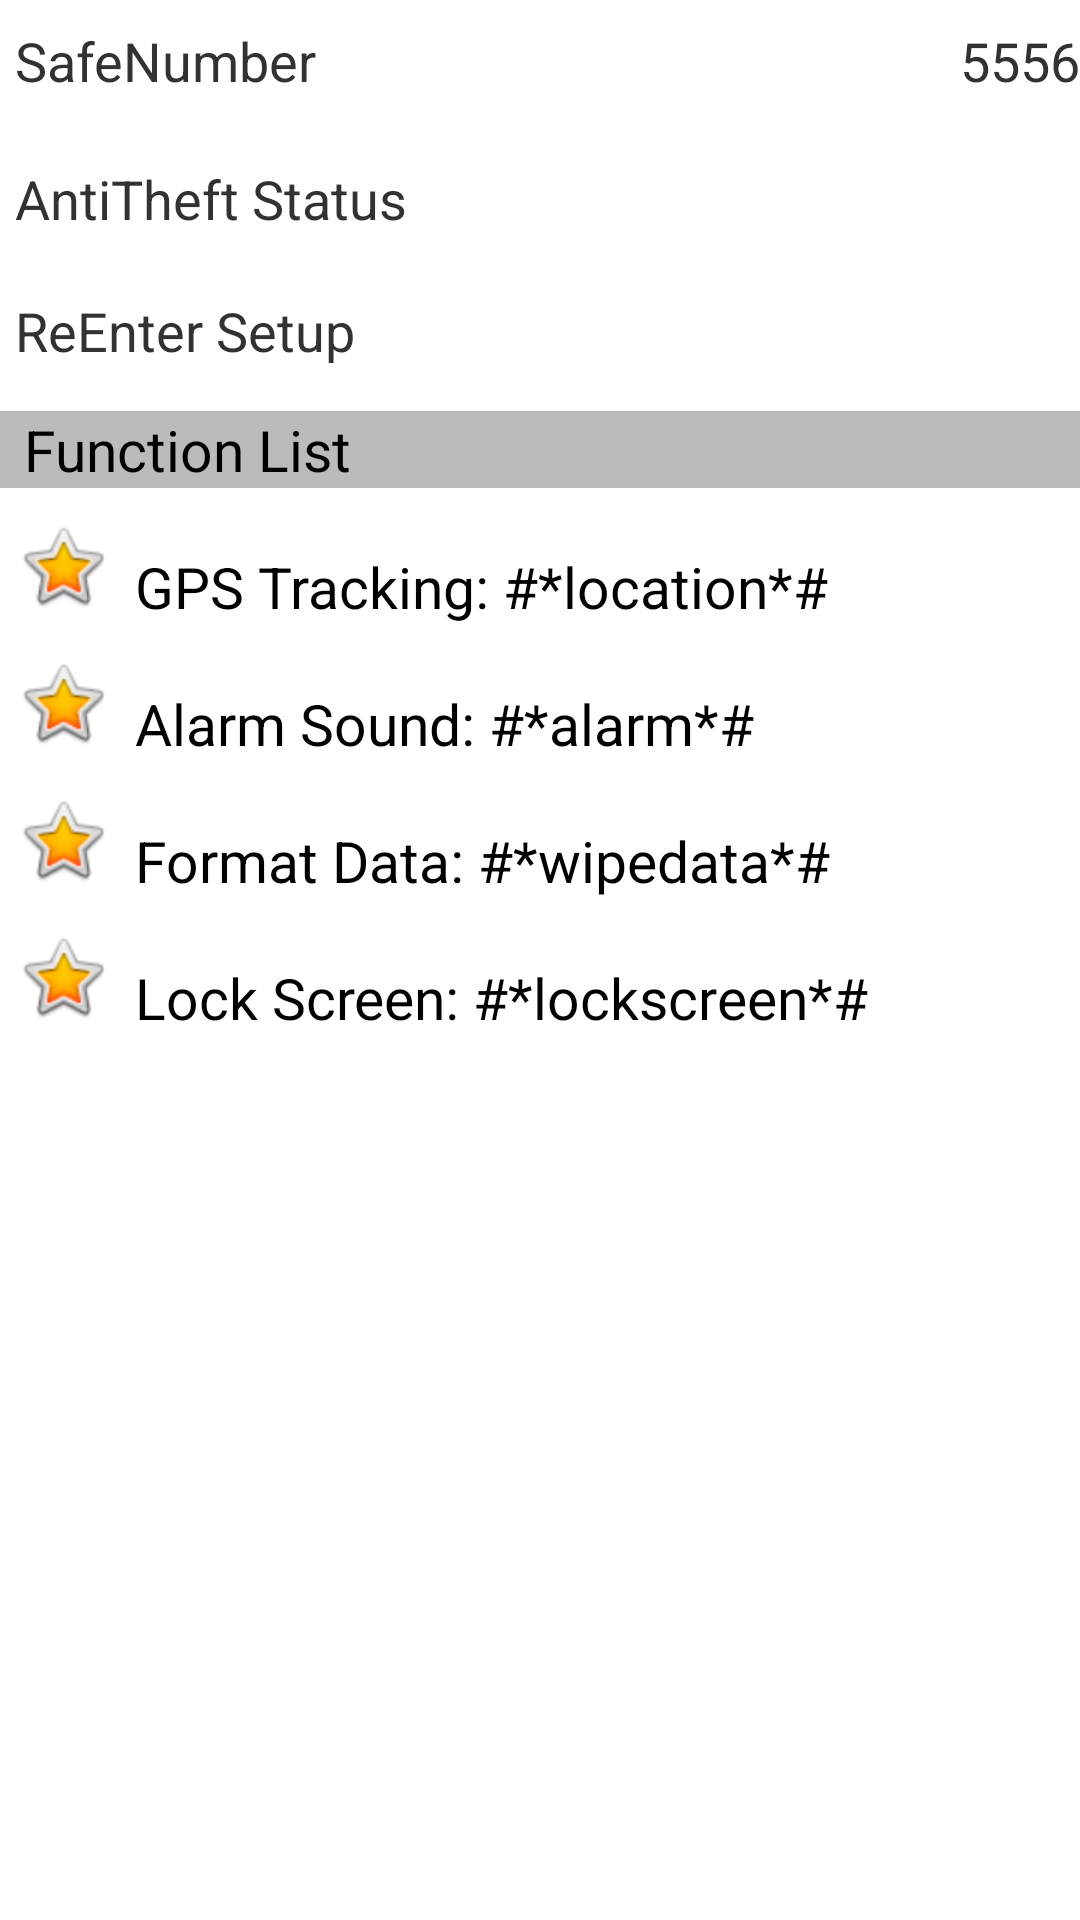

Where to tap for icons on this 1080 × 1920 app screen, as point (x, y):
star on: point (64, 567), point (64, 704), point (64, 841), point (64, 978)
